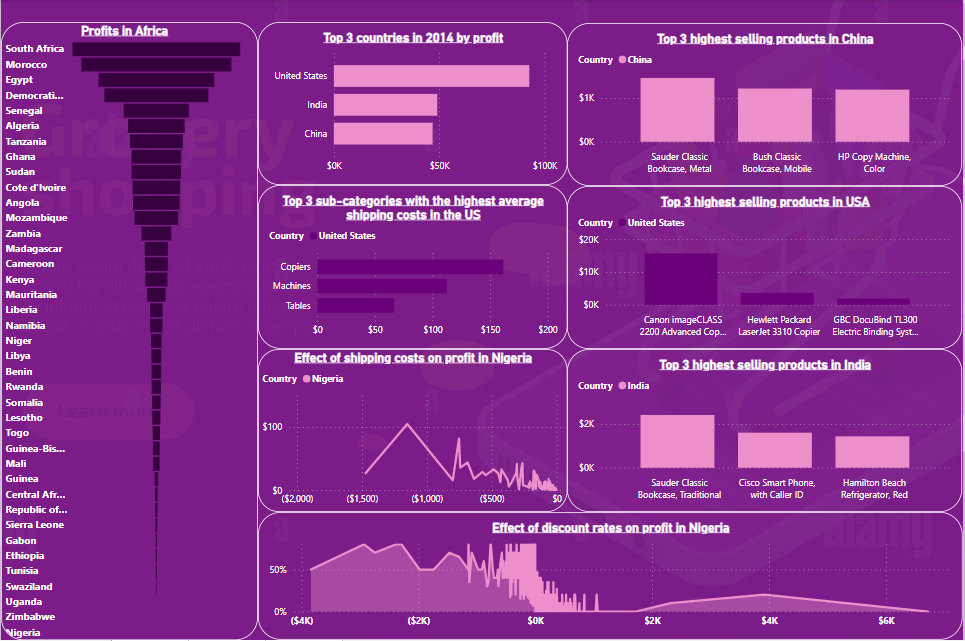

The page's visual inventory and layout, read from the dashboard file:
{"tool":"powerbi","page":{"name":"Page 2","canvas":[1280,852],"ordinal":1},"visuals":[{"type":"barChart","title":"Top 3 countries in 2014 by profit","fields":{"Category":["GlobalSuperstore - Capstone xlsx - Orders.Country"],"Y":["Sum(GlobalSuperstore - Capstone xlsx - Orders.Profit)"]},"box":[342.3,29.3,411.6,217.1],"z":0},{"type":"funnel","title":"Profits in Africa","fields":{"Category":["GlobalSuperstore - Capstone xlsx - Orders.Country"],"Y":["Sum(GlobalSuperstore - Capstone xlsx - Orders.Profit)"]},"box":[0,29.3,342.3,823.1],"z":1000},{"type":"lineChart","title":"Effect of shipping costs on profit in Nigeria","fields":{"Category":["GlobalSuperstore - Capstone xlsx - Orders.Profit"],"Series":["GlobalSuperstore - Capstone xlsx - Orders.Country"],"Y":["Avg(GlobalSuperstore - Capstone xlsx - Orders.Shipping Cost)"]},"box":[342.3,464.8,411.6,217.1],"z":2000},{"type":"stackedAreaChart","title":"Effect of discount rates on profit in Nigeria","fields":{"Category":["GlobalSuperstore - Capstone xlsx - Orders.Profit"],"Y":["Avg(GlobalSuperstore - Capstone xlsx - Orders.Discount)"]},"box":[342.3,682,937.7,170.5],"z":3000},{"type":"columnChart","title":"Top 3 highest selling products in China","fields":{"Series":["GlobalSuperstore - Capstone xlsx - Orders.Country"],"Y":["Sum(GlobalSuperstore - Capstone xlsx - Orders.Profit)"],"Category":["GlobalSuperstore - Capstone xlsx - Orders.Product Name"]},"box":[753.9,30.6,526.1,217.1],"z":4000},{"type":"columnChart","title":"Top 3 highest selling products in USA","fields":{"Y":["Sum(GlobalSuperstore - Capstone xlsx - Orders.Profit)"],"Series":["GlobalSuperstore - Capstone xlsx - Orders.Country"],"Category":["GlobalSuperstore - Capstone xlsx - Orders.Product Name"]},"box":[753.9,247.7,526.1,217.1],"z":5000},{"type":"columnChart","title":"Top 3 highest selling products in India","fields":{"Y":["Sum(GlobalSuperstore - Capstone xlsx - Orders.Profit)"],"Series":["GlobalSuperstore - Capstone xlsx - Orders.Country"],"Category":["GlobalSuperstore - Capstone xlsx - Orders.Product Name"]},"box":[753.9,464.8,526.1,217.1],"z":6000},{"type":"barChart","title":"Top 3 sub-categories with the highest average shipping costs in the US","fields":{"Y":["Avg(GlobalSuperstore - Capstone xlsx - Orders.Shipping Cost)"],"Series":["GlobalSuperstore - Capstone xlsx - Orders.Country"],"Category":["GlobalSuperstore - Capstone xlsx - Orders.Sub-Category"]},"box":[342.3,246.4,411.6,218.4],"z":7000}]}

Visuals, with their boxes in screenshot pixels (x1, y1, x2, y2), scaled from the page's 1280x852 canvas onto the 965x641 screenshot:
"Top 3 countries in 2014 by profit" barChart: bbox(258, 22, 568, 185)
"Profits in Africa" funnel: bbox(0, 22, 258, 640)
"Effect of shipping costs on profit in Nigeria" lineChart: bbox(258, 350, 568, 513)
"Effect of discount rates on profit in Nigeria" stackedAreaChart: bbox(258, 513, 964, 640)
"Top 3 highest selling products in China" columnChart: bbox(568, 23, 964, 186)
"Top 3 highest selling products in USA" columnChart: bbox(568, 186, 964, 350)
"Top 3 highest selling products in India" columnChart: bbox(568, 350, 964, 513)
"Top 3 sub-categories with the highest average shipping costs in the US" barChart: bbox(258, 185, 568, 350)
